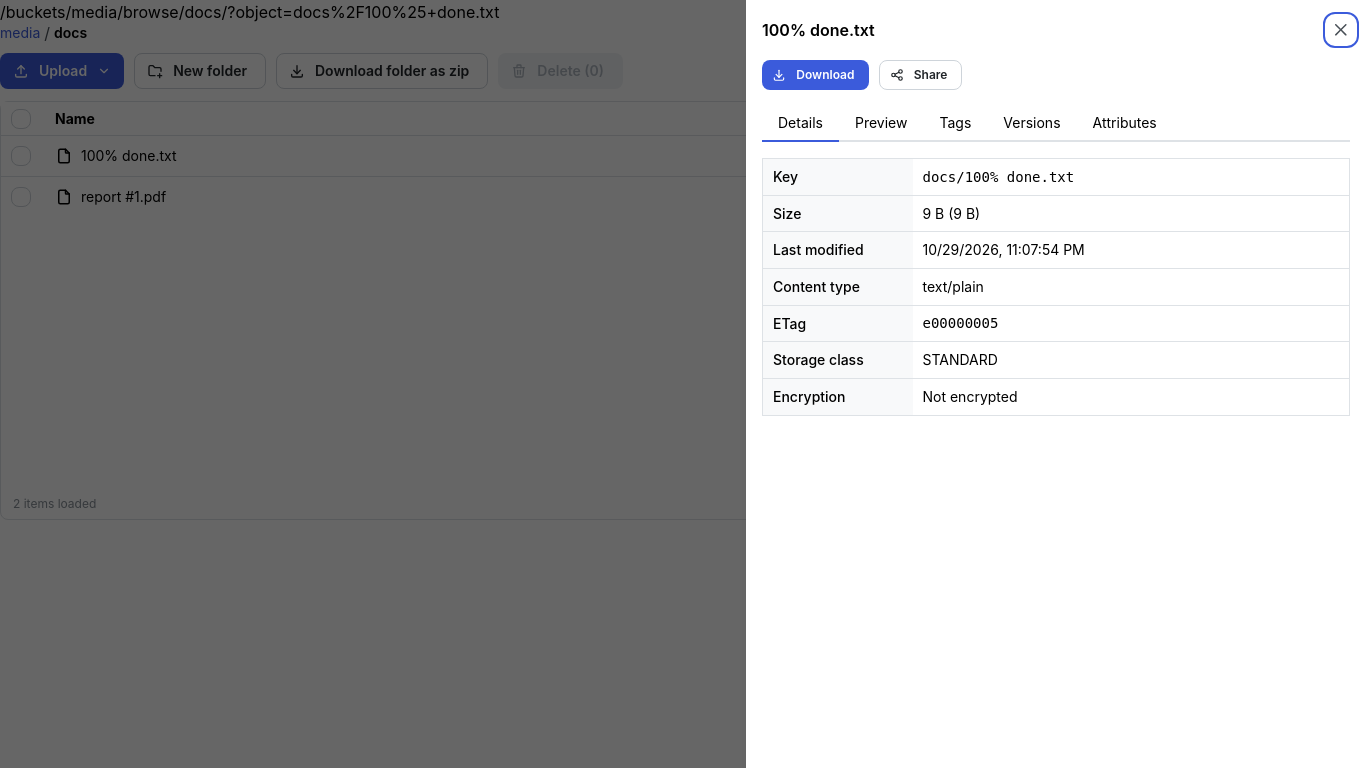
Test: ObjectBrowser (TD-U-05) › opens a deep link with special characters and the object drawer
Expected: the text "docs/100% done.txt" is shown, [922,169,1074,185]
Click the tab "Preview": click(881, 124) [839,106,924,142]
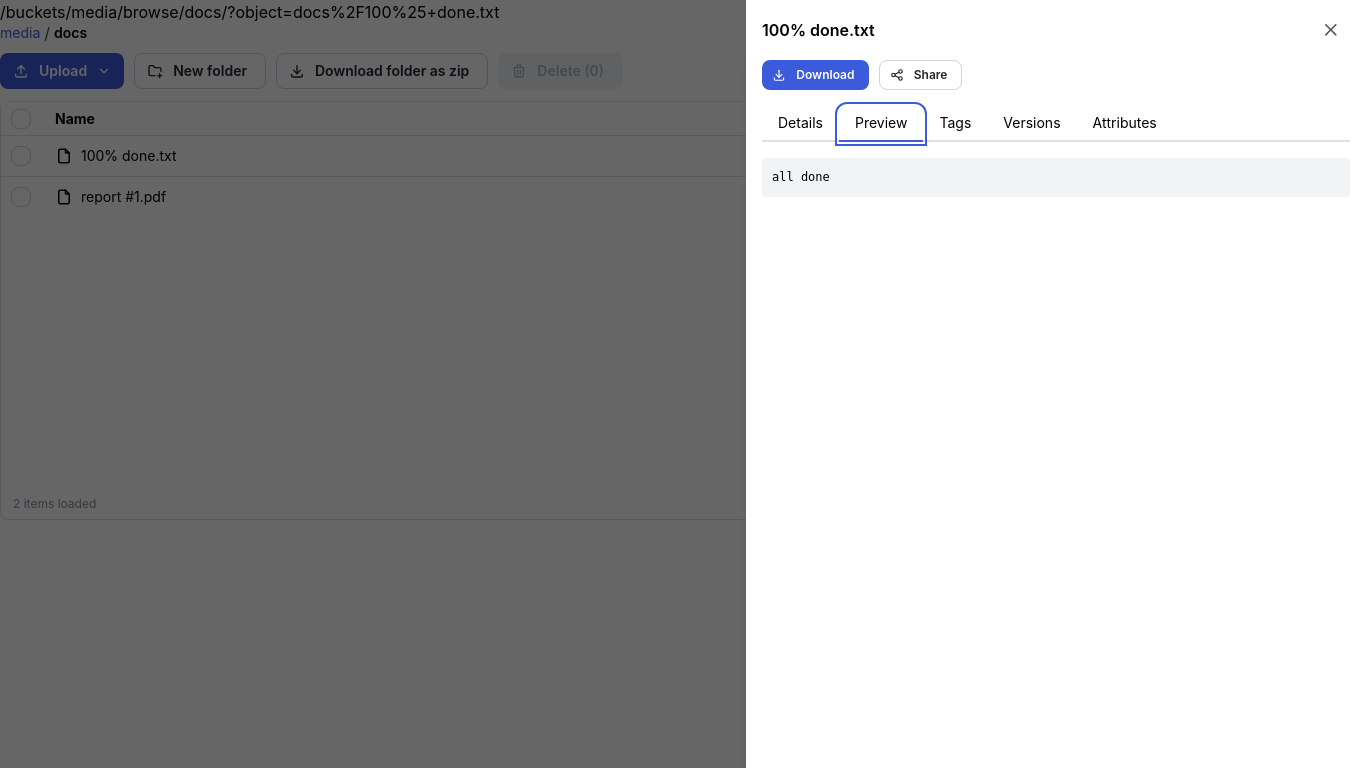
Expected: the text "all done" is shown, [762,158,1350,197]
Click the button named "Close": click(1331, 30) [1317,16,1345,44]
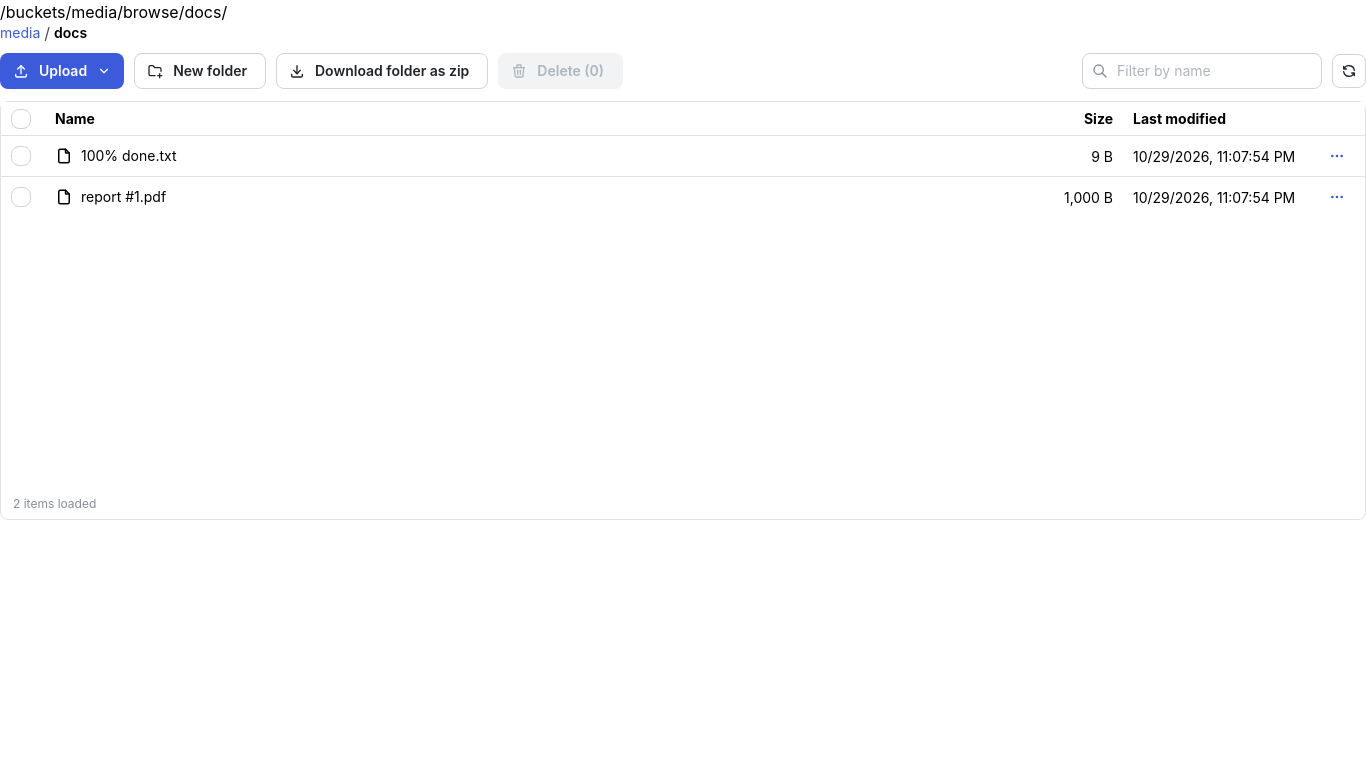
Expected: the text with test id "location" reads "/buckets/media/browse/docs/", [0,2,227,22]
Click the button "report #1.pdf": click(124, 197) [81,187,166,208]
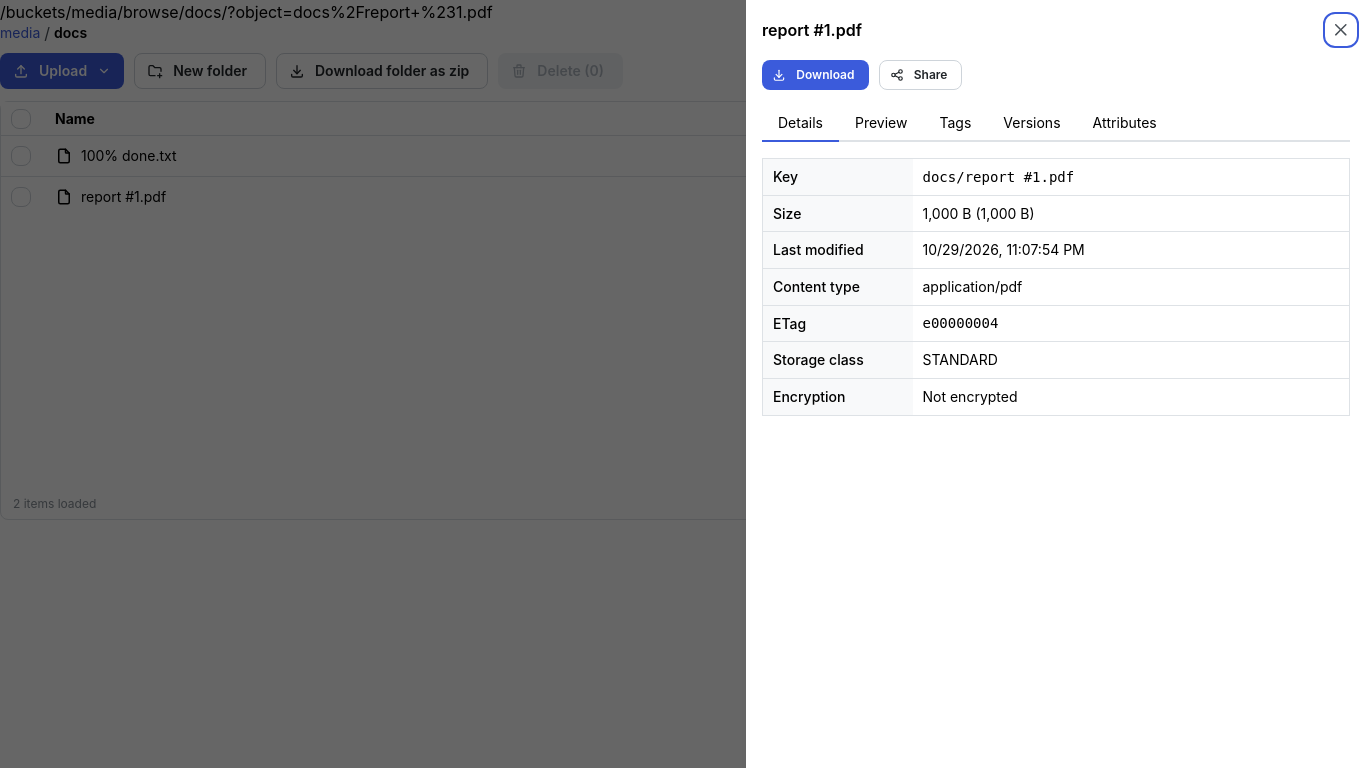
Expected: the text "docs/report #1.pdf" is shown, [922,169,1074,185]
